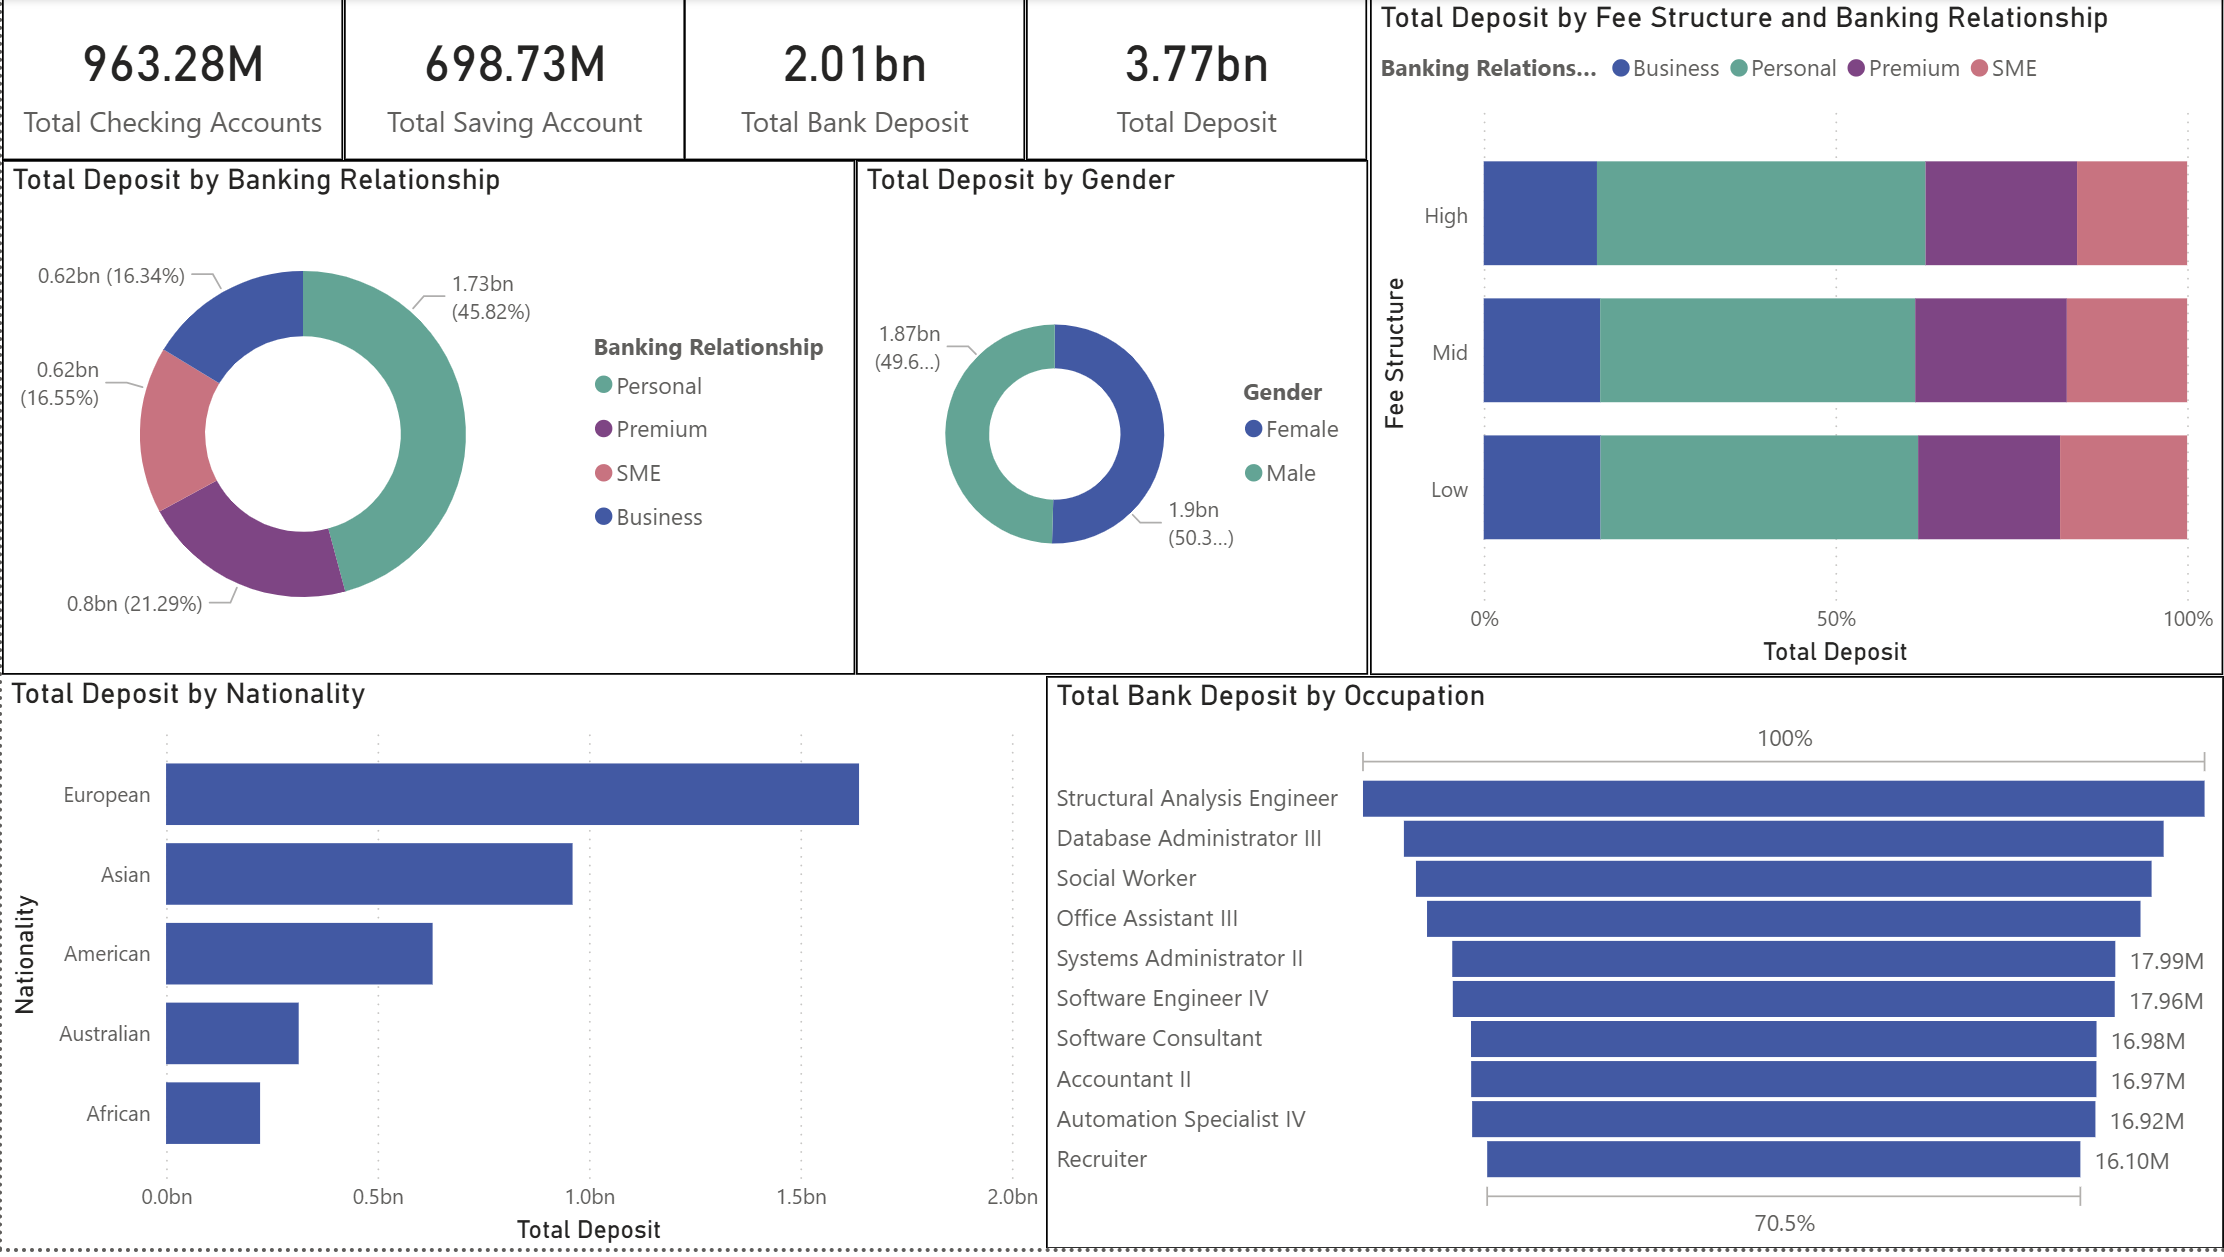

What the dashboard file says about the page in this screenshot:
{"tool":"powerbi","page":{"name":"Deposit Analysis","canvas":[1280,720],"ordinal":2},"visuals":[{"type":"card","fields":{"Values":["Banking.Total Checking Accounts"]},"box":[0,0,196.7,93.3],"z":0},{"type":"card","fields":{"Values":["Banking.Total Saving Account"]},"box":[196.7,0,196.7,93.3],"z":1000},{"type":"card","fields":{"Values":["Banking.Total Bank Deposit"]},"box":[393.3,0,196.7,93.3],"z":2000},{"type":"card","fields":{"Values":["Banking.Total Deposit"]},"box":[590,0,196.7,93.3],"z":3000},{"type":"donutChart","fields":{"Category":["Banking.Banking Relationship"],"Y":["Banking.Total Deposit"]},"box":[0,93.3,491.7,296.7],"z":4000},{"type":"donutChart","fields":{"Category":["Banking.Gender"],"Y":["Banking.Total Deposit"]},"box":[491.7,93.3,295,296.7],"z":5000},{"type":"hundredPercentStackedBarChart","fields":{"Category":["Banking.Fee Structure"],"Y":["Banking.Total Deposit"],"Series":["Banking.Banking Relationship"]},"box":[788.3,0,491.7,390],"z":6000},{"type":"clusteredBarChart","fields":{"Category":["Banking.Nationality"],"Y":["Banking.Total Deposit"]},"box":[0,390,601.7,331.7],"z":7000},{"type":"funnel","fields":{"Category":["Banking.Occupation"],"Y":["Banking.Total Bank Deposit"]},"box":[601.7,390,678.3,330],"z":8000}]}

Visuals, with their boxes in screenshot pixels (x1, y1, x2, y2), scaled from the page's 1280x720 canvas onto the 2224x1257 screenshot:
card - Banking.Total Checking Accounts: <bbox>0, 0, 342, 163</bbox>
card - Banking.Total Saving Account: <bbox>342, 0, 684, 163</bbox>
card - Banking.Total Bank Deposit: <bbox>683, 0, 1025, 163</bbox>
card - Banking.Total Deposit: <bbox>1025, 0, 1367, 163</bbox>
donutChart - Banking.Banking Relationship x Banking.Total Deposit: <bbox>0, 163, 854, 681</bbox>
donutChart - Banking.Gender x Banking.Total Deposit: <bbox>854, 163, 1367, 681</bbox>
hundredPercentStackedBarChart - Banking.Fee Structure x Banking.Total Deposit: <bbox>1370, 0, 2223, 681</bbox>
clusteredBarChart - Banking.Nationality x Banking.Total Deposit: <bbox>0, 681, 1045, 1256</bbox>
funnel - Banking.Occupation x Banking.Total Bank Deposit: <bbox>1045, 681, 2223, 1256</bbox>
